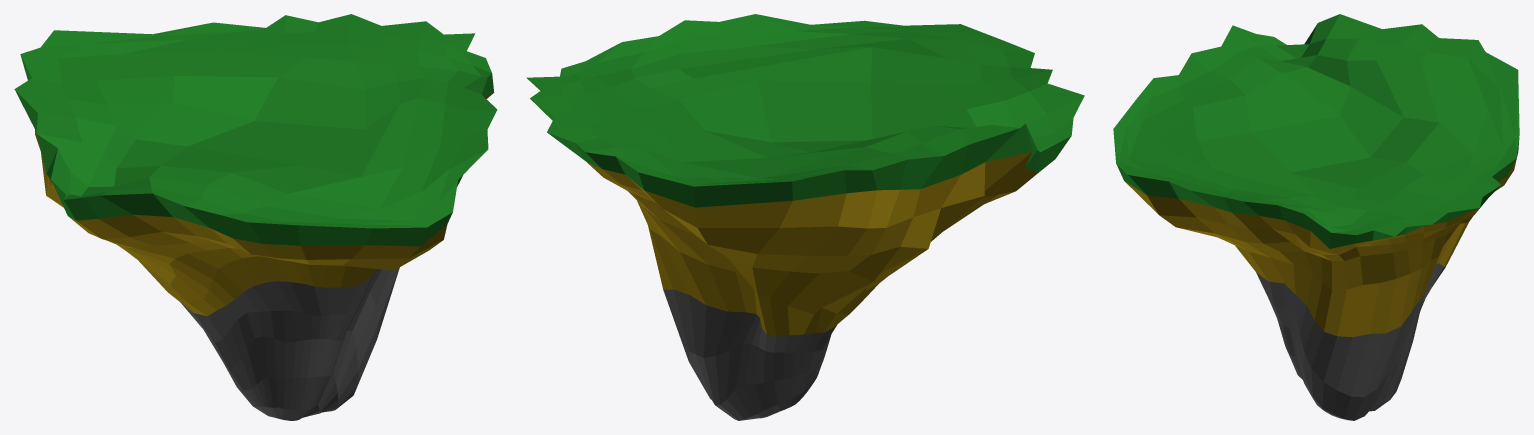
Rendered from Platform_ground_3.fbx.
3 renders of one model, left to right at view 1: azimuth 30°, elevation 25°; view 2: azimuth 150°, elevation 25°; view 3: azimuth 270°, elevation 25°, orthographic. The views are drawn at different scales.
Parts seen in each view (by area): view 1: Sphere; view 2: Sphere; view 3: Sphere.
Boxes of the visible parts, <box> form: Sphere: <box>14,14,497,420</box>; Sphere: <box>526,14,1084,420</box>; Sphere: <box>1113,14,1519,420</box>.
Bounding box in the file's own units: 339 × 235 × 298.
